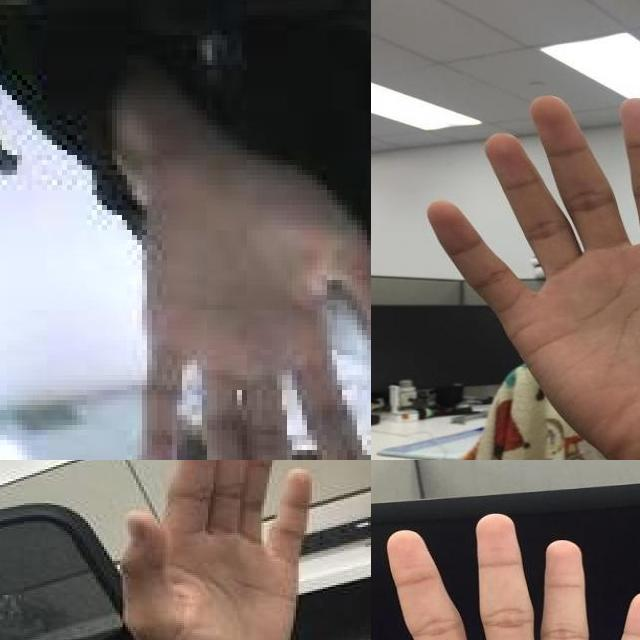hand: (420, 93, 640, 449), (137, 150, 371, 460), (117, 460, 317, 640), (371, 511, 640, 640)
